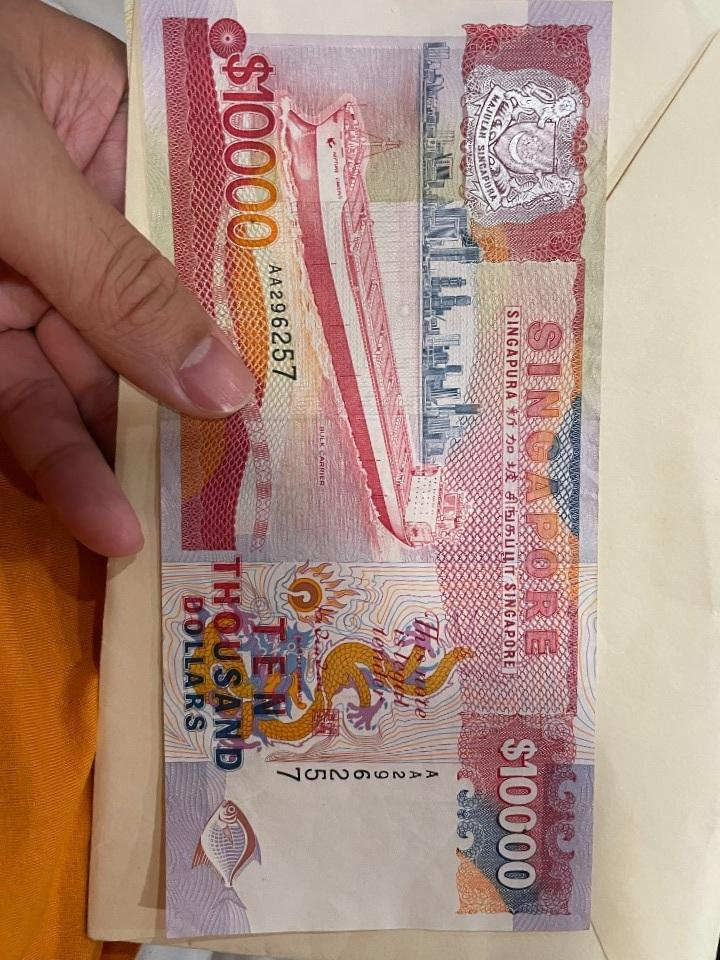10000SingaporeDollar: (170, 0, 590, 931)
